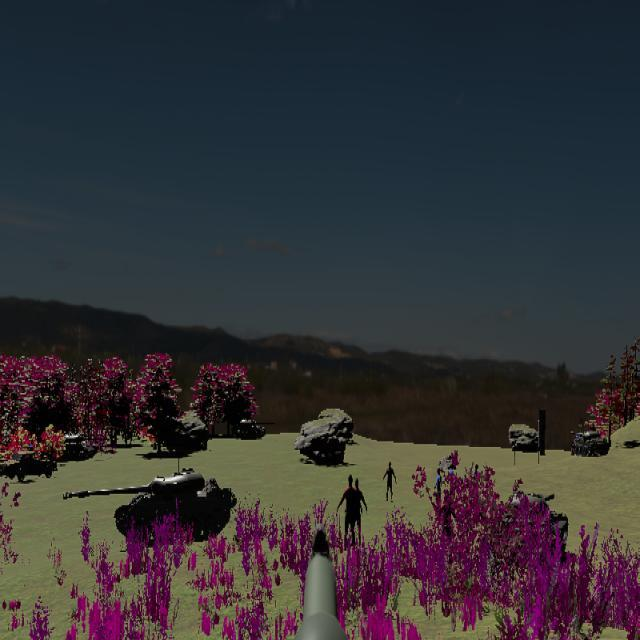Tank: (63, 469, 233, 545), (501, 490, 569, 558), (569, 425, 612, 457), (235, 418, 275, 440)
car: (0, 449, 54, 481)
